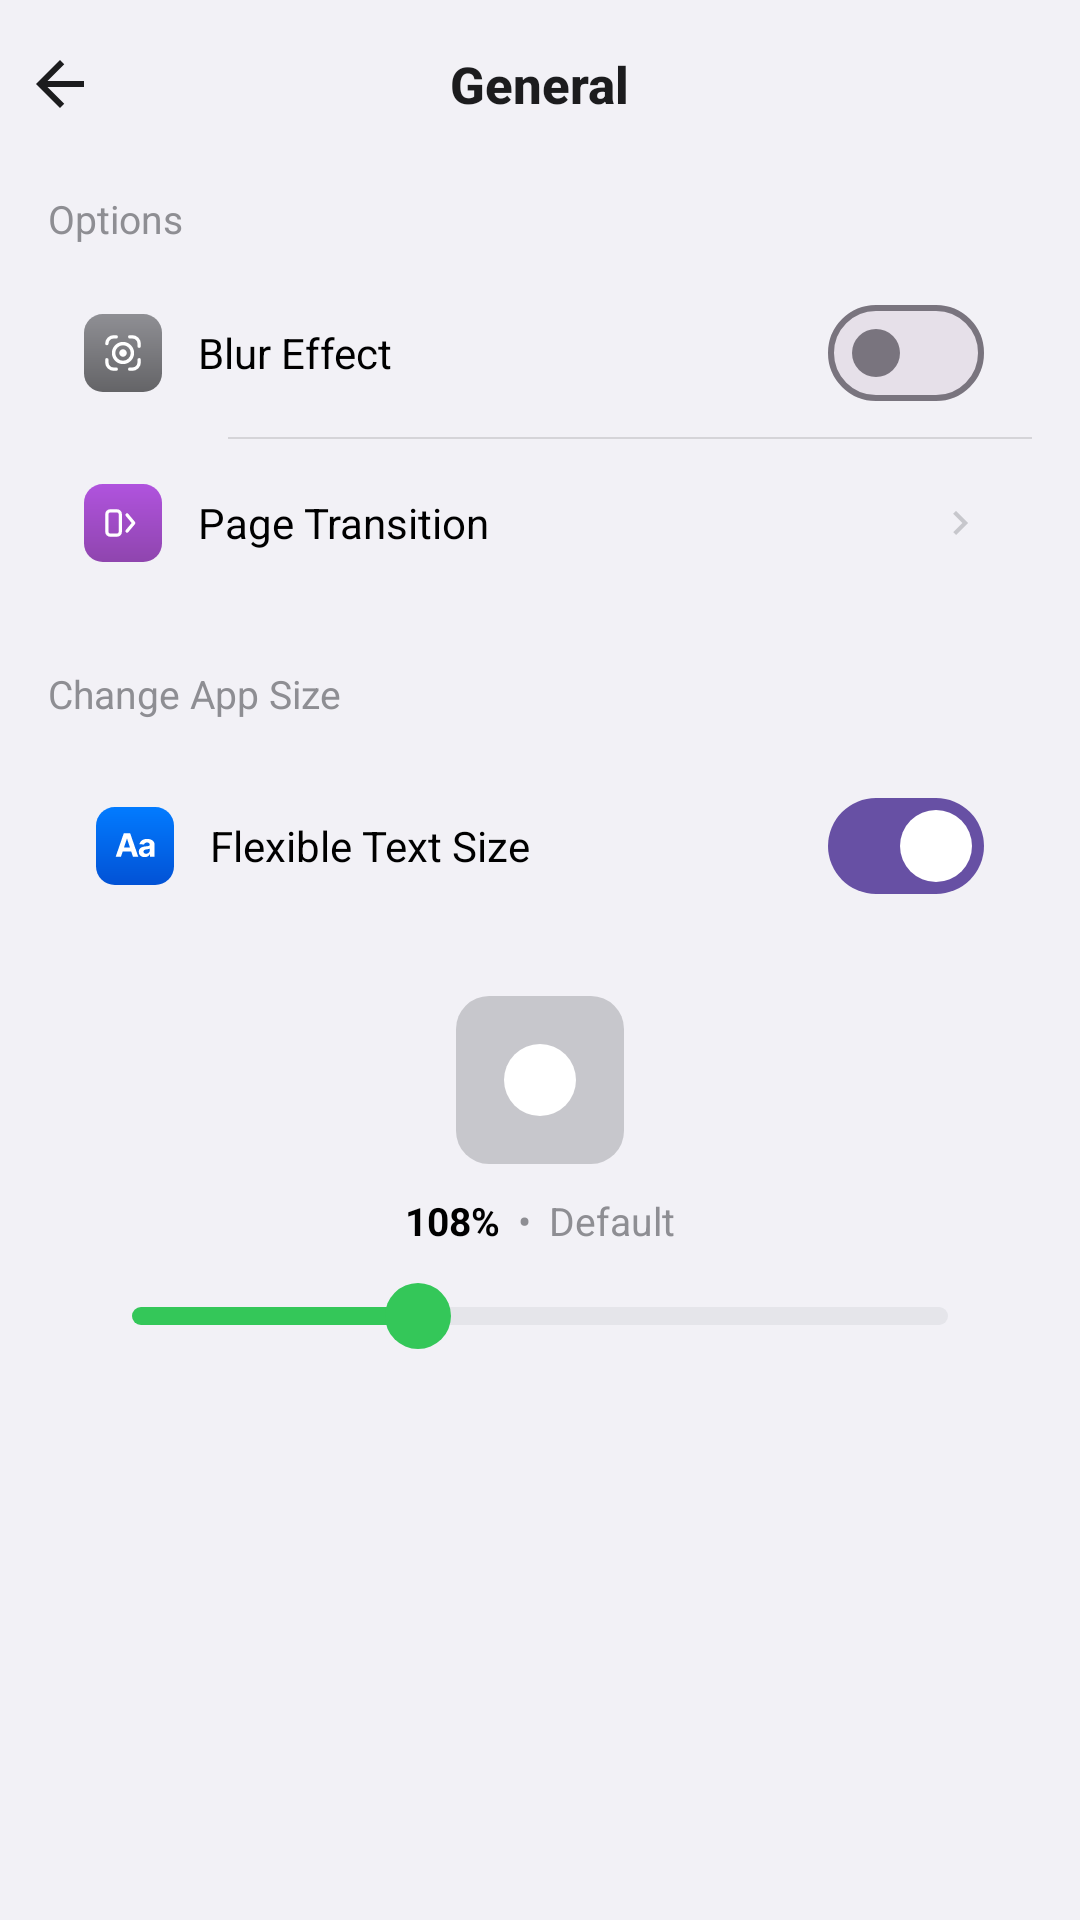

Icons on this 1080 x 1920 Android screen, each with its box as (x1, y1, x2, y2):
back arrow: (36, 60, 84, 108)
chevron right: (953, 511, 968, 535)
